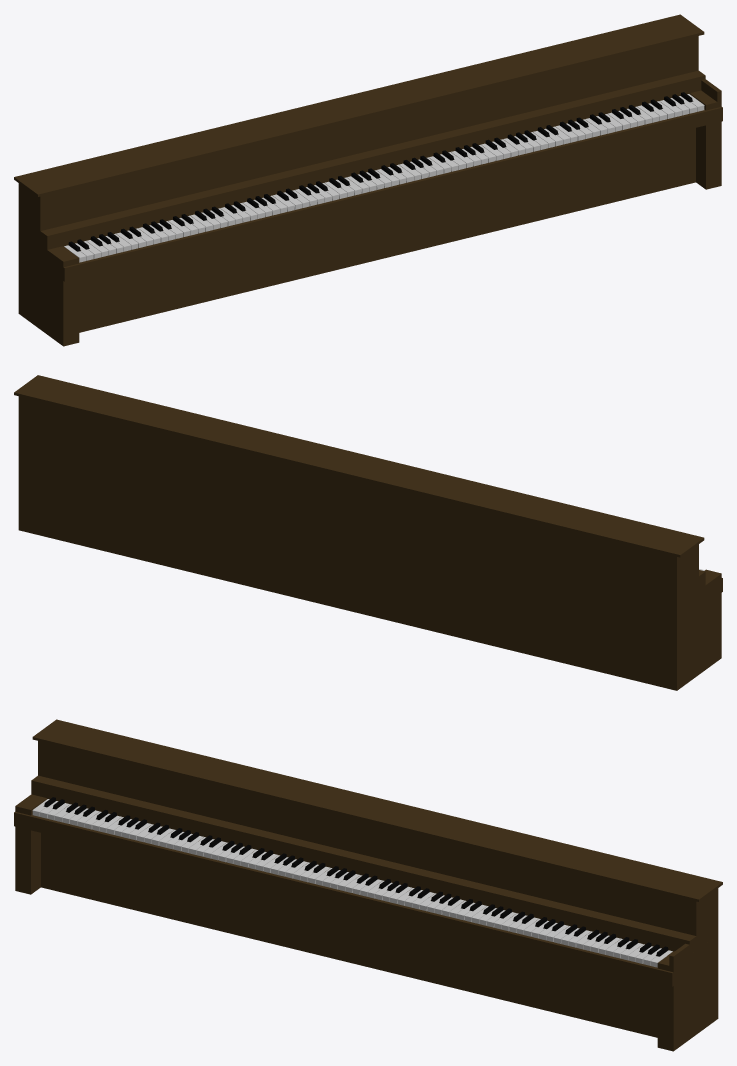
File: 12 Octave Keys.dae
3 renders of one model, top to bottom at view 1: azimuth 30°, elevation 25°; view 2: azimuth 150°, elevation 25°; view 3: azimuth 330°, elevation 25°, orthographic.
Parts seen in each view (by area): view 1: Cube, Cube_003, Cube_005, White_keys, Cube_004, Black_keys; view 2: Cube, Cube_003, Cube_005, Cube_004; view 3: Cube, Cube_003, Cube_005, White_keys, Black_keys, Cube_004, Cube_006.
Part boxes in pixels (x1,y1,x2,y2): Cube: (14,14,722,281); Cube_003: (18,94,695,332); Cube_005: (25,70,705,319); White_keys: (64,94,704,262); Cube_004: (33,90,721,346); Black_keys: (68,92,692,251); Cube: (14,375,722,638); Cube_003: (18,446,691,690); Cube_005: (683,570,705,671); Cube_004: (691,569,721,679); Cube: (14,719,722,986); Cube_003: (41,799,718,1043); Cube_005: (31,775,711,955); White_keys: (32,799,672,967); Black_keys: (44,797,668,956); Cube_004: (15,794,689,1051); Cube_006: (669,943,689,1040).
Size of the model in its own units: 33.18 by 4.02 by 6.53.
